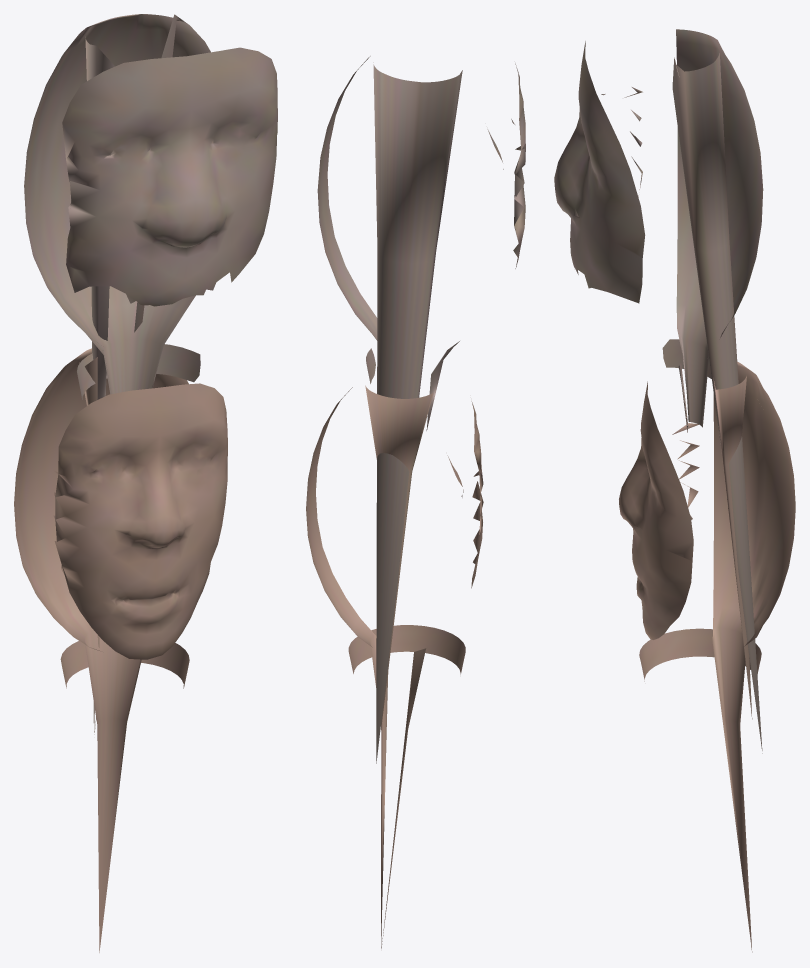
3 views of the same model, side by side, from view 1: azimuth 30°, elevation 25°; view 2: azimuth 150°, elevation 25°; view 3: azimuth 270°, elevation 25° (orthographic). The views are drawn at different scales.
Visible parts, largest first — view 1: world; view 2: world; view 3: world.
Boxes of the visible parts, bbox=[...] form: world: bbox=[14, 14, 277, 952]; world: bbox=[306, 56, 525, 948]; world: bbox=[554, 29, 795, 952].
Size of the model in its own units: 0.1114 by 0.4678 by 0.1118.
